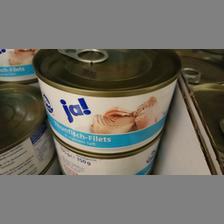Fisch: (32, 48, 180, 152)
